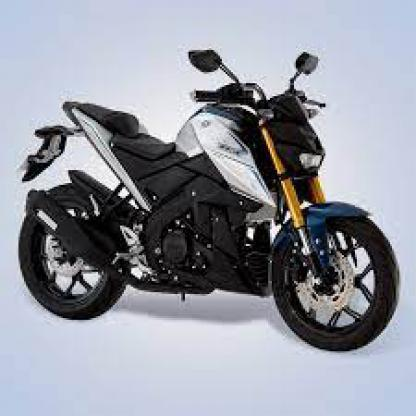Motorcycle: (17, 42, 404, 356)
